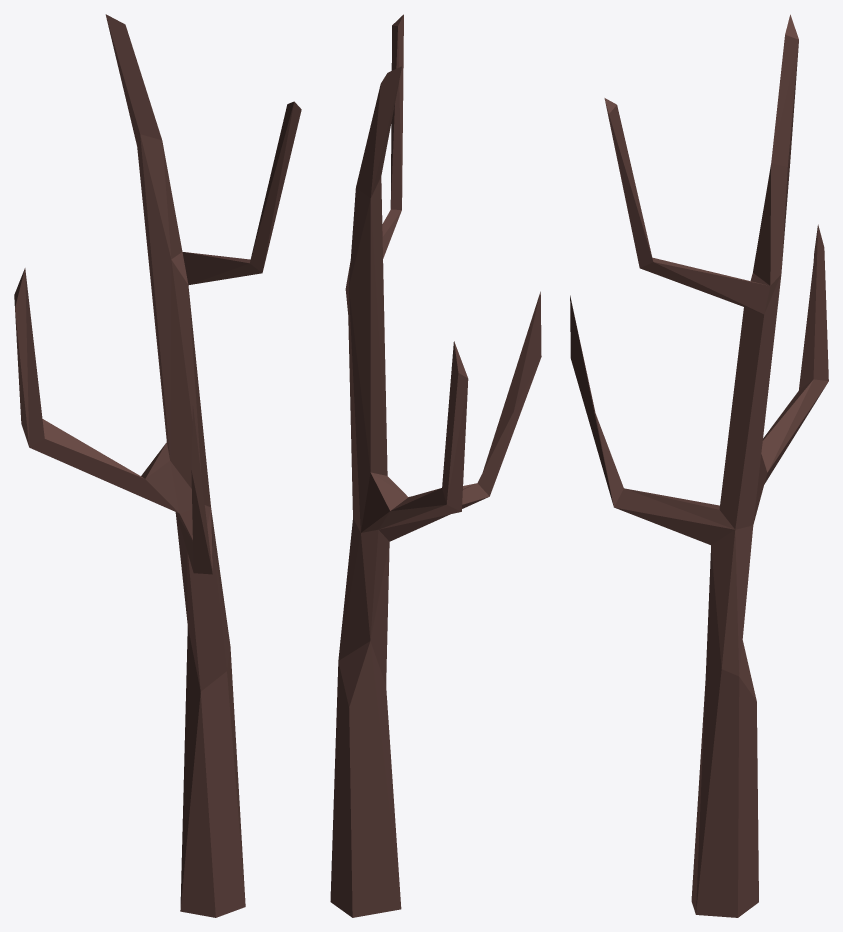
Rendered from tree-common-dead-3.gltf.
3 renders of one model, left to right at view 1: azimuth 30°, elevation 25°; view 2: azimuth 150°, elevation 25°; view 3: azimuth 270°, elevation 25°, orthographic. The views are drawn at different scales.
Parts seen in each view (by area): view 1: CommonTree_Dead_3_Cube.001; view 2: CommonTree_Dead_3_Cube.001; view 3: CommonTree_Dead_3_Cube.001.
Part boxes in pixels (x1,y1,x2,y2): CommonTree_Dead_3_Cube.001: (14, 14, 301, 917); CommonTree_Dead_3_Cube.001: (330, 14, 541, 917); CommonTree_Dead_3_Cube.001: (570, 14, 828, 917).
Size of the model in its own units: 0.00643 by 0.0298 by 0.00815.
